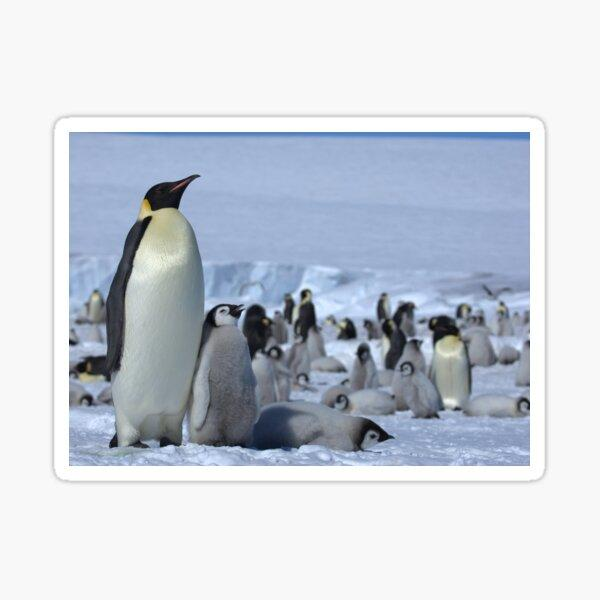emporer: (112, 178, 227, 480)
